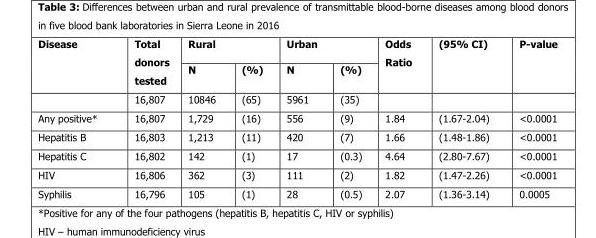table: (37, 36, 556, 199)
table column: (424, 36, 503, 199), (37, 36, 115, 199), (115, 36, 177, 199), (503, 36, 556, 199), (372, 36, 424, 199), (177, 36, 227, 199), (274, 36, 323, 199), (323, 36, 372, 199), (227, 36, 274, 199)
table column header: (37, 36, 556, 89)
table row: (37, 55, 556, 89), (37, 36, 556, 55), (37, 89, 556, 108), (37, 126, 556, 145), (37, 145, 556, 164), (37, 164, 556, 183), (37, 108, 556, 126), (37, 183, 556, 199)
table spanning cell: (424, 36, 503, 89), (37, 36, 115, 89), (115, 36, 177, 89), (503, 36, 556, 89), (372, 36, 424, 89), (274, 36, 372, 55), (177, 36, 274, 55)
